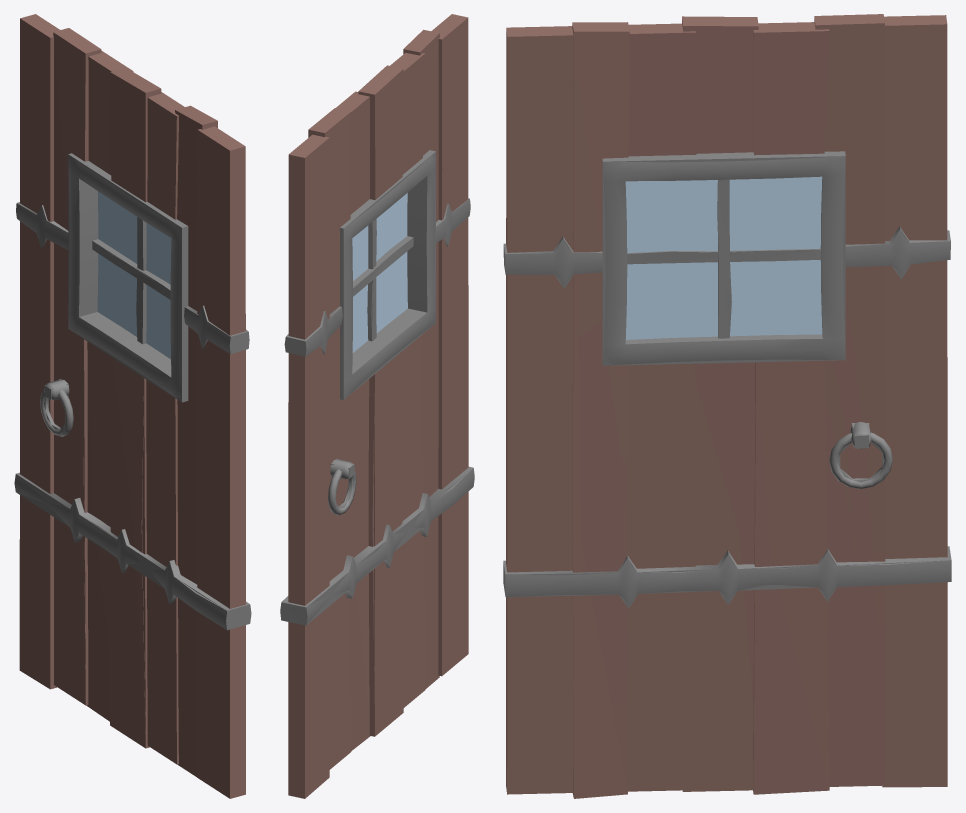
File: Wooden_Door_1_W.fbx
3 renders of one model, left to right at view 1: azimuth 30°, elevation 25°; view 2: azimuth 150°, elevation 25°; view 3: azimuth 270°, elevation 25°, orthographic. The views are drawn at different scales.
Visible parts, largest first — view 1: Wooden_Door_1_W_LOD0, Wooden_Door_1_W, Wooden_Door_1_Glass; view 2: Wooden_Door_1_W_LOD0, Wooden_Door_1_W, Wooden_Door_1_Glass; view 3: Wooden_Door_1_W_LOD0, Wooden_Door_1_W, Wooden_Door_1_Glass.
Part boxes in pixels (x1=…): Wooden_Door_1_W_LOD0: x1=16, y1=18, x2=249, y2=798; Wooden_Door_1_W: x1=14, y1=14, x2=251, y2=743; Wooden_Door_1_Glass: x1=97, y1=191, x2=171, y2=359; Wooden_Door_1_W_LOD0: x1=281, y1=18, x2=473, y2=798; Wooden_Door_1_W: x1=280, y1=14, x2=474, y2=750; Wooden_Door_1_Glass: x1=352, y1=193, x2=407, y2=352; Wooden_Door_1_W_LOD0: x1=503, y1=24, x2=951, y2=798; Wooden_Door_1_W: x1=503, y1=14, x2=951, y2=797; Wooden_Door_1_Glass: x1=625, y1=176, x2=822, y2=339.
Bounding box in the file's own units: 0.1858 × 2.18 × 1.15.
